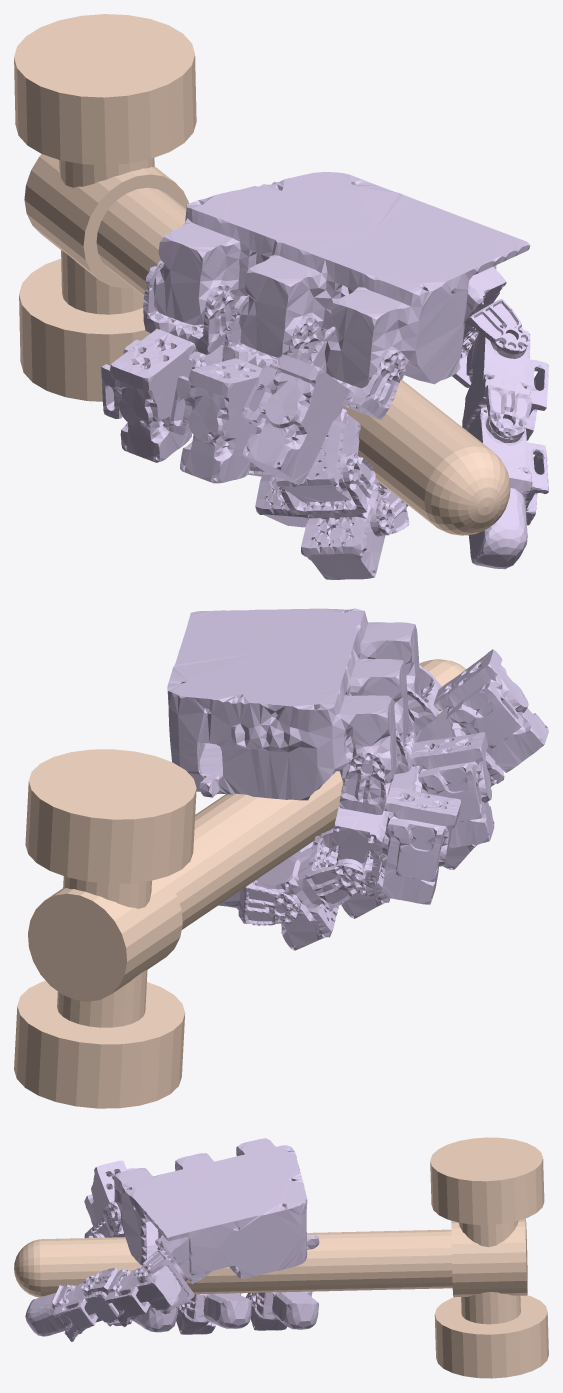
The model's file is 9e6bddeaee2b47-final.glb.
The picture shows the model from 3 angles, top to bottom: view 1: azimuth 30°, elevation 25°; view 2: azimuth 150°, elevation 25°; view 3: azimuth 270°, elevation 25°; orthographic projection. The views are drawn at different scales.
Visible parts, largest first — view 1: LEAP_hand, world; view 2: LEAP_hand, world; view 3: world, LEAP_hand.
Boxes of the visible parts, bbox=[...] form: LEAP_hand: bbox=[101, 172, 548, 579]; world: bbox=[14, 14, 510, 535]; LEAP_hand: bbox=[167, 608, 548, 950]; world: bbox=[14, 659, 466, 1108]; world: bbox=[14, 1137, 548, 1378]; LEAP_hand: bbox=[25, 1138, 319, 1341].
Size of the model in its own units: 0.1705 by 0.1474 by 0.3598.
